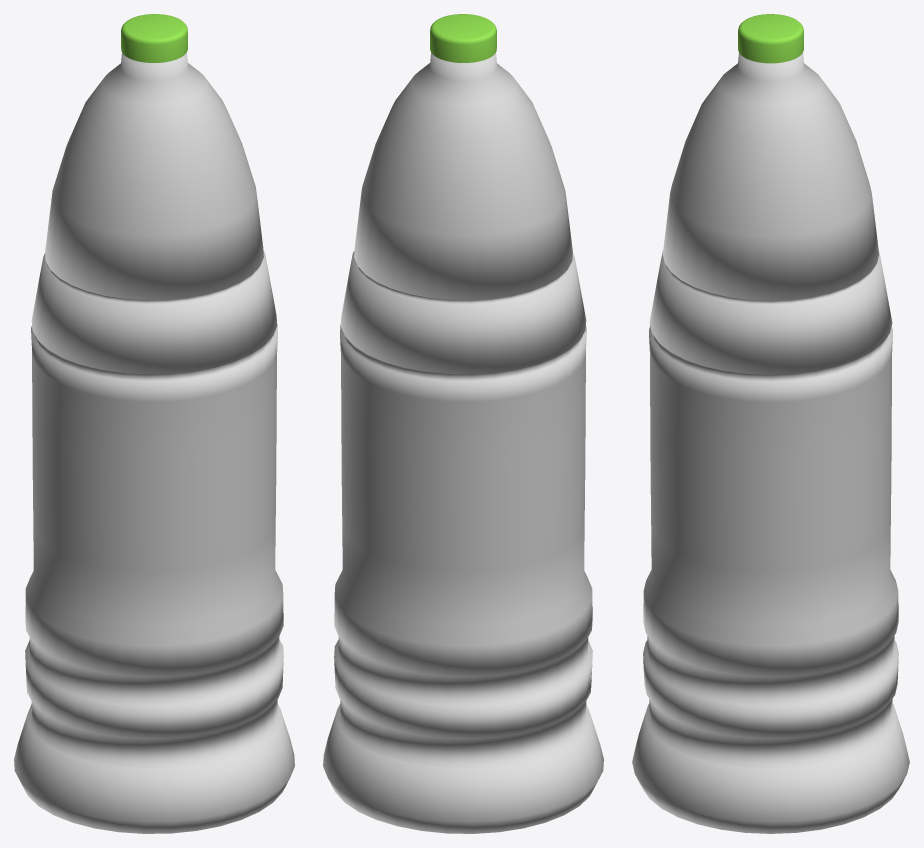
Rendered from Bottle.fbx.
3 renders of one model, left to right at view 1: azimuth 30°, elevation 25°; view 2: azimuth 150°, elevation 25°; view 3: azimuth 270°, elevation 25°, orthographic.
Parts seen in each view (by area): view 1: Cylinder; view 2: Cylinder; view 3: Cylinder.
Boxes of the visible parts, left/top/right/bottom form: Cylinder: left=14, top=14, right=294, bottom=833; Cylinder: left=323, top=14, right=603, bottom=833; Cylinder: left=632, top=14, right=909, bottom=833.
Size of the model in its own units: 14.65 by 42.97 by 14.41.
